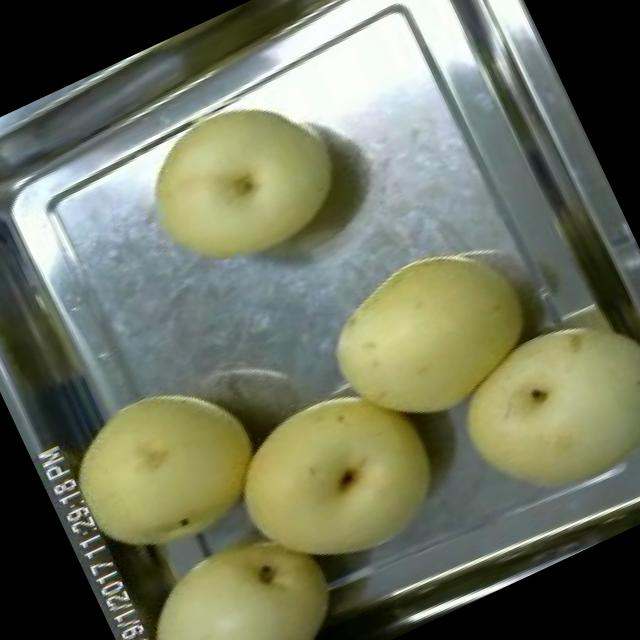Fruit: (200, 354, 470, 608), (296, 212, 564, 458), (38, 347, 293, 588), (116, 68, 368, 302), (427, 279, 640, 535), (108, 497, 370, 640)
